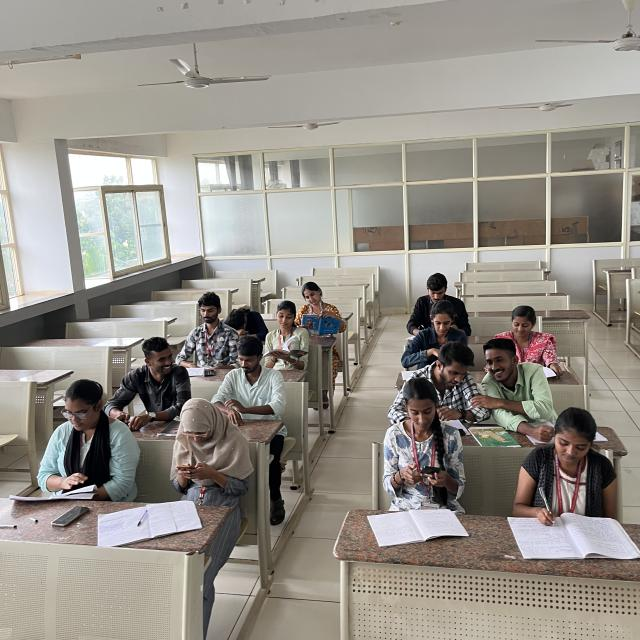Reading: (13, 376, 136, 504), (292, 281, 344, 341), (265, 302, 310, 366)
Sleeping: (225, 300, 268, 340)
Using Phone: (383, 376, 463, 490), (163, 396, 247, 498), (106, 334, 191, 431)
Writing: (516, 411, 628, 551)
